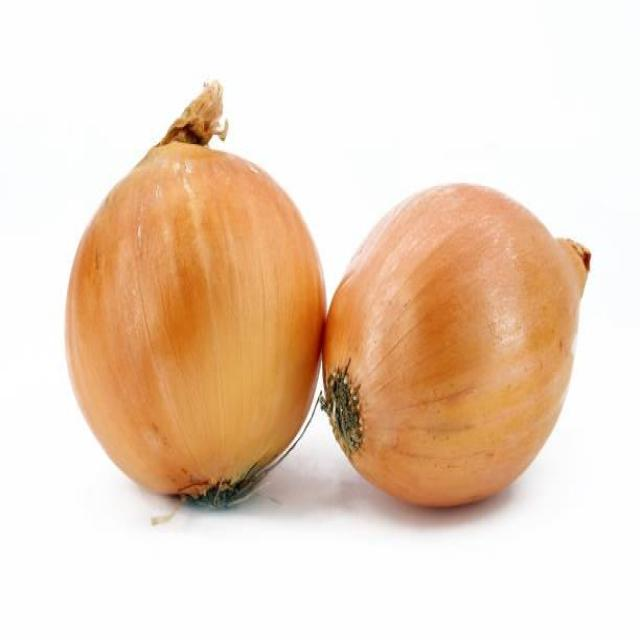Onion: (66, 82, 324, 499), (322, 184, 589, 505)
